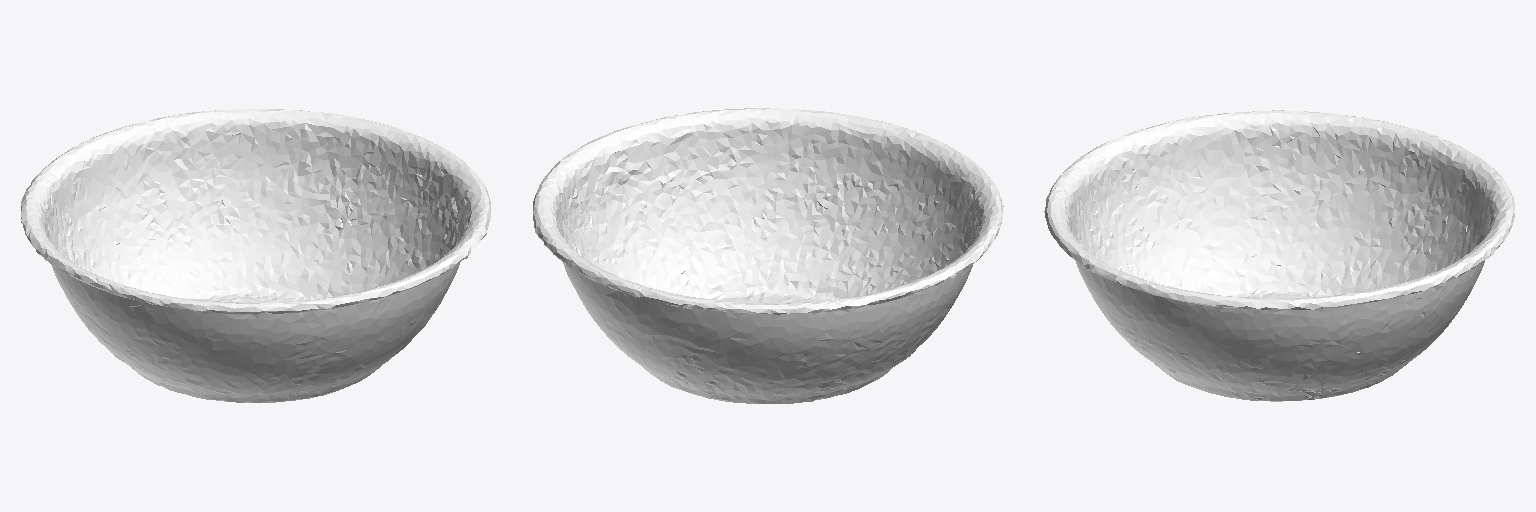
robot.urdf — 024_bowl:
<?xml version="1.0"?>
<robot name="024_bowl">
	<link name="_name">
		<visual>
			<origin rpy="0 0 0" xyz="0 0 0" />
			<geometry>
				<mesh filename="024_bowl/google_16k/textured.obj" scale="1 1 1" />
			</geometry>
			<material name="texture">
				<color rgba="1.0 1.0 1.0 1.0" />
			</material>
		</visual>
		<collision>
			<origin rpy="0 0 0" xyz="0 0 0" />
			<geometry>
				<mesh filename="024_bowl/google_16k/textured_vhacd.obj" scale="1 1 1" />
			</geometry>
		</collision>
		<inertial>
			<origin rpy="0 0 0" xyz="0 0 0" />
			<mass value="0.195" />
			<inertia ixx="1.0" ixy="0.0" ixz="0.0" iyy="1.0" iyz="0.0" izz="1.0" />
		</inertial>
	</link>
</robot>

--- Facts derived from the render (not from the file) ---
The picture shows the robot from 3 angles, left to right: view 1: azimuth 30°, elevation 25°; view 2: azimuth 150°, elevation 25°; view 3: azimuth 270°, elevation 25°; orthographic projection.
Robot: 024_bowl — 1 links, 0 joints (none); root link _name; default pose: every joint at zero.
Visible links, largest first — view 1: _name; view 2: _name; view 3: _name.
Boxes of the visible links, x1=… form: _name: x1=21, y1=109, x2=490, y2=402; _name: x1=533, y1=108, x2=1003, y2=403; _name: x1=1044, y1=110, x2=1514, y2=401.
Bounding box of the posed robot: 0.1612 × 0.1615 × 0.055 m (x, y, z).
1 mesh visuals loaded from 1 distinct referenced files (1 OBJ).
